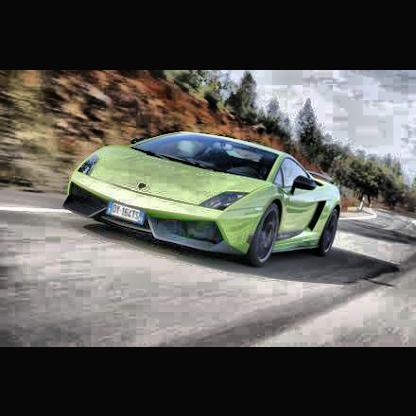Lamborghini Gallardo LP 570-4 Superleggera 2012: (60, 130, 346, 271)
